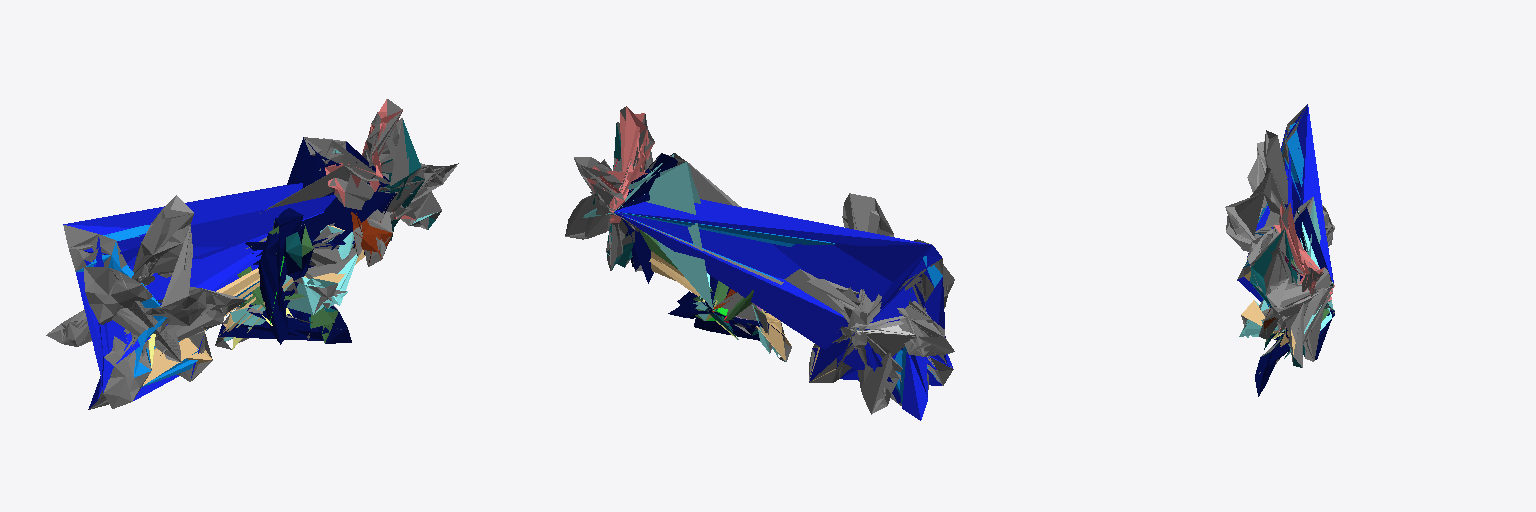
Rendered from warehouse.obj.
3 renders of one model, left to right at view 1: azimuth 30°, elevation 25°; view 2: azimuth 150°, elevation 25°; view 3: azimuth 270°, elevation 25°, orthographic.
Visible parts, largest first — view 1: Box01, Bananatree_b02, Bananatree_b01, big_leave_pl01; view 2: Box01, Bananatree_b02, Bananatree_b01, big_leave_pl01; view 3: Box01, Bananatree_b02, Bananatree_b01.
Part boxes in pixels (x1,y1,x2,y2): Box01: (47,99,457,409); Bananatree_b02: (48,99,444,405); Bananatree_b01: (69,114,458,409); big_leave_pl01: (46,195,231,408); Box01: (574,107,954,420); Bananatree_b02: (565,120,954,413); Bananatree_b01: (565,106,954,414); big_leave_pl01: (807,206,953,409); Box01: (1226,104,1334,396); Bananatree_b02: (1227,122,1334,373); Bananatree_b01: (1228,105,1333,367).
Bounding box in the file's own units: 19.07 × 11.06 × 4.56.